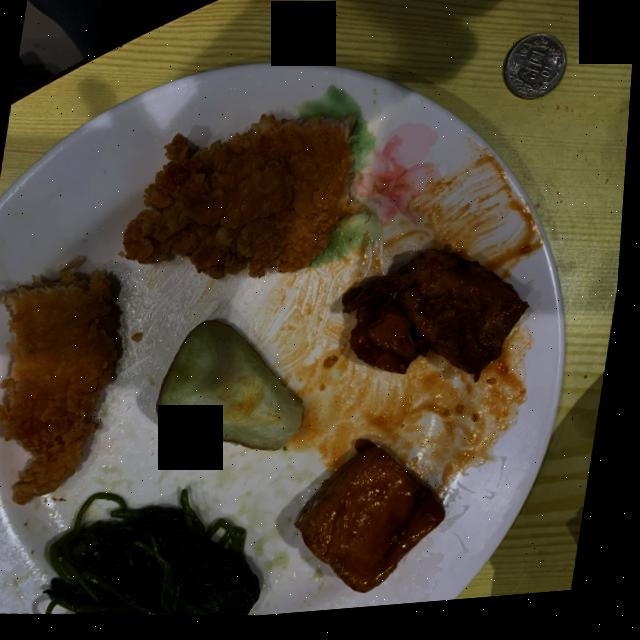coin: (504, 42, 568, 108)
creamy tofu: (347, 256, 532, 386), (303, 446, 452, 598)
fried chicken cutlet: (127, 119, 361, 282), (0, 271, 122, 504)
sweet potato leaves: (54, 493, 268, 620)
